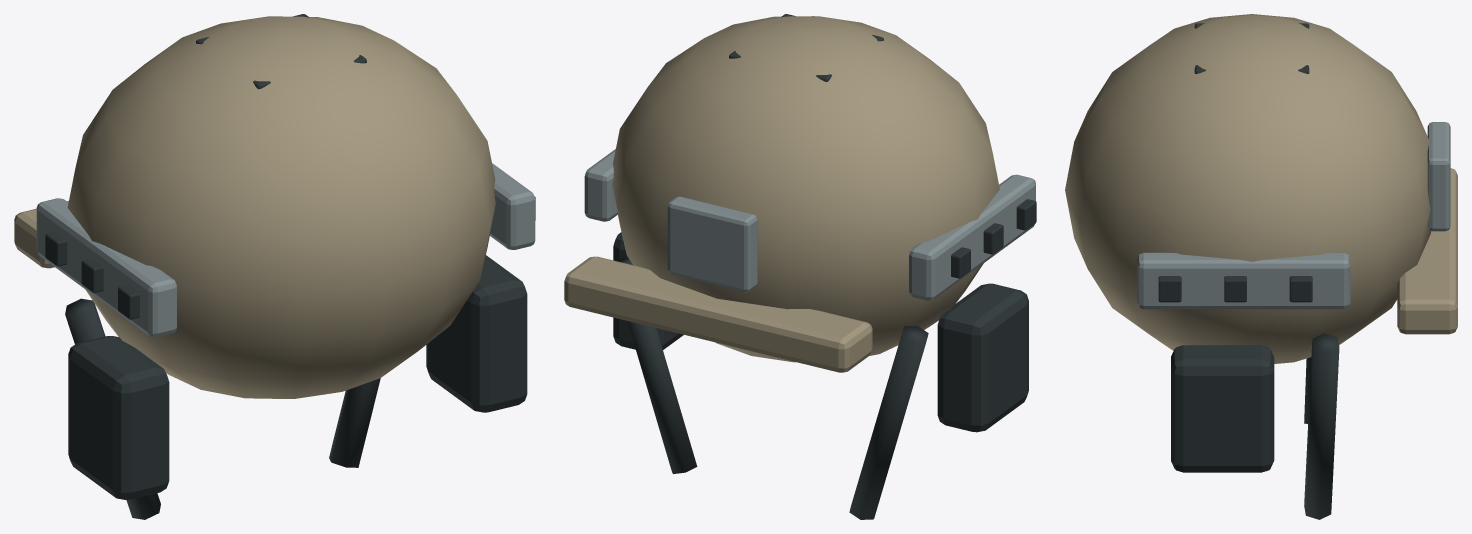
The model's file is helmet_moss_1b.glb.
3 renders of one model, left to right at view 1: azimuth 30°, elevation 25°; view 2: azimuth 150°, elevation 25°; view 3: azimuth 270°, elevation 25°, orthographic. The views are drawn at different scales.
Visible parts, largest first — view 1: helmet_moss_1b; view 2: helmet_moss_1b; view 3: helmet_moss_1b.
Part boxes in pixels (x1,y1,x2,y2): helmet_moss_1b: [14, 14, 535, 519]; helmet_moss_1b: [564, 14, 1036, 519]; helmet_moss_1b: [1065, 14, 1457, 519].
Bounding box in the file's own units: 0.263 × 0.2936 × 0.2395.
